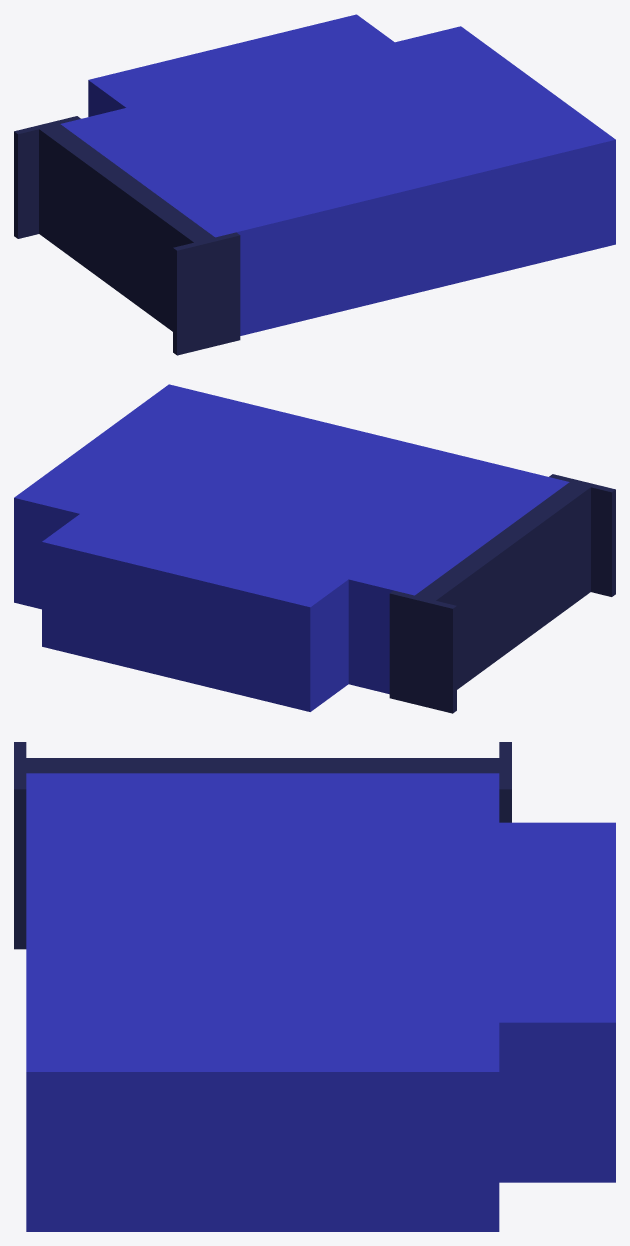
The model's file is divisor-block.glb.
3 views of the same model, one above another, from view 1: azimuth 30°, elevation 25°; view 2: azimuth 150°, elevation 25°; view 3: azimuth 270°, elevation 25° (orthographic). The views are drawn at different scales.
Parts seen in each view (by area): view 1: body, connector.002, body.001; view 2: body, body.001, connector.002; view 3: body, body.001, connector.002.
Part boxes in pixels (left/top/right/bottom): body: left=60, top=26, right=615, bottom=335; connector.002: left=14, top=116, right=240, bottom=355; body.001: left=88, top=14, right=394, bottom=116; body: left=14, top=384, right=569, bottom=694; body.001: left=42, top=514, right=348, bottom=711; connector.002: left=389, top=474, right=615, bottom=713; body: left=26, top=773, right=499, bottom=1231; body.001: left=499, top=822, right=615, bottom=1182; connector.002: left=14, top=742, right=511, bottom=949.
Bounding box in the file's own units: 0.21 × 0.0475 × 0.162.
